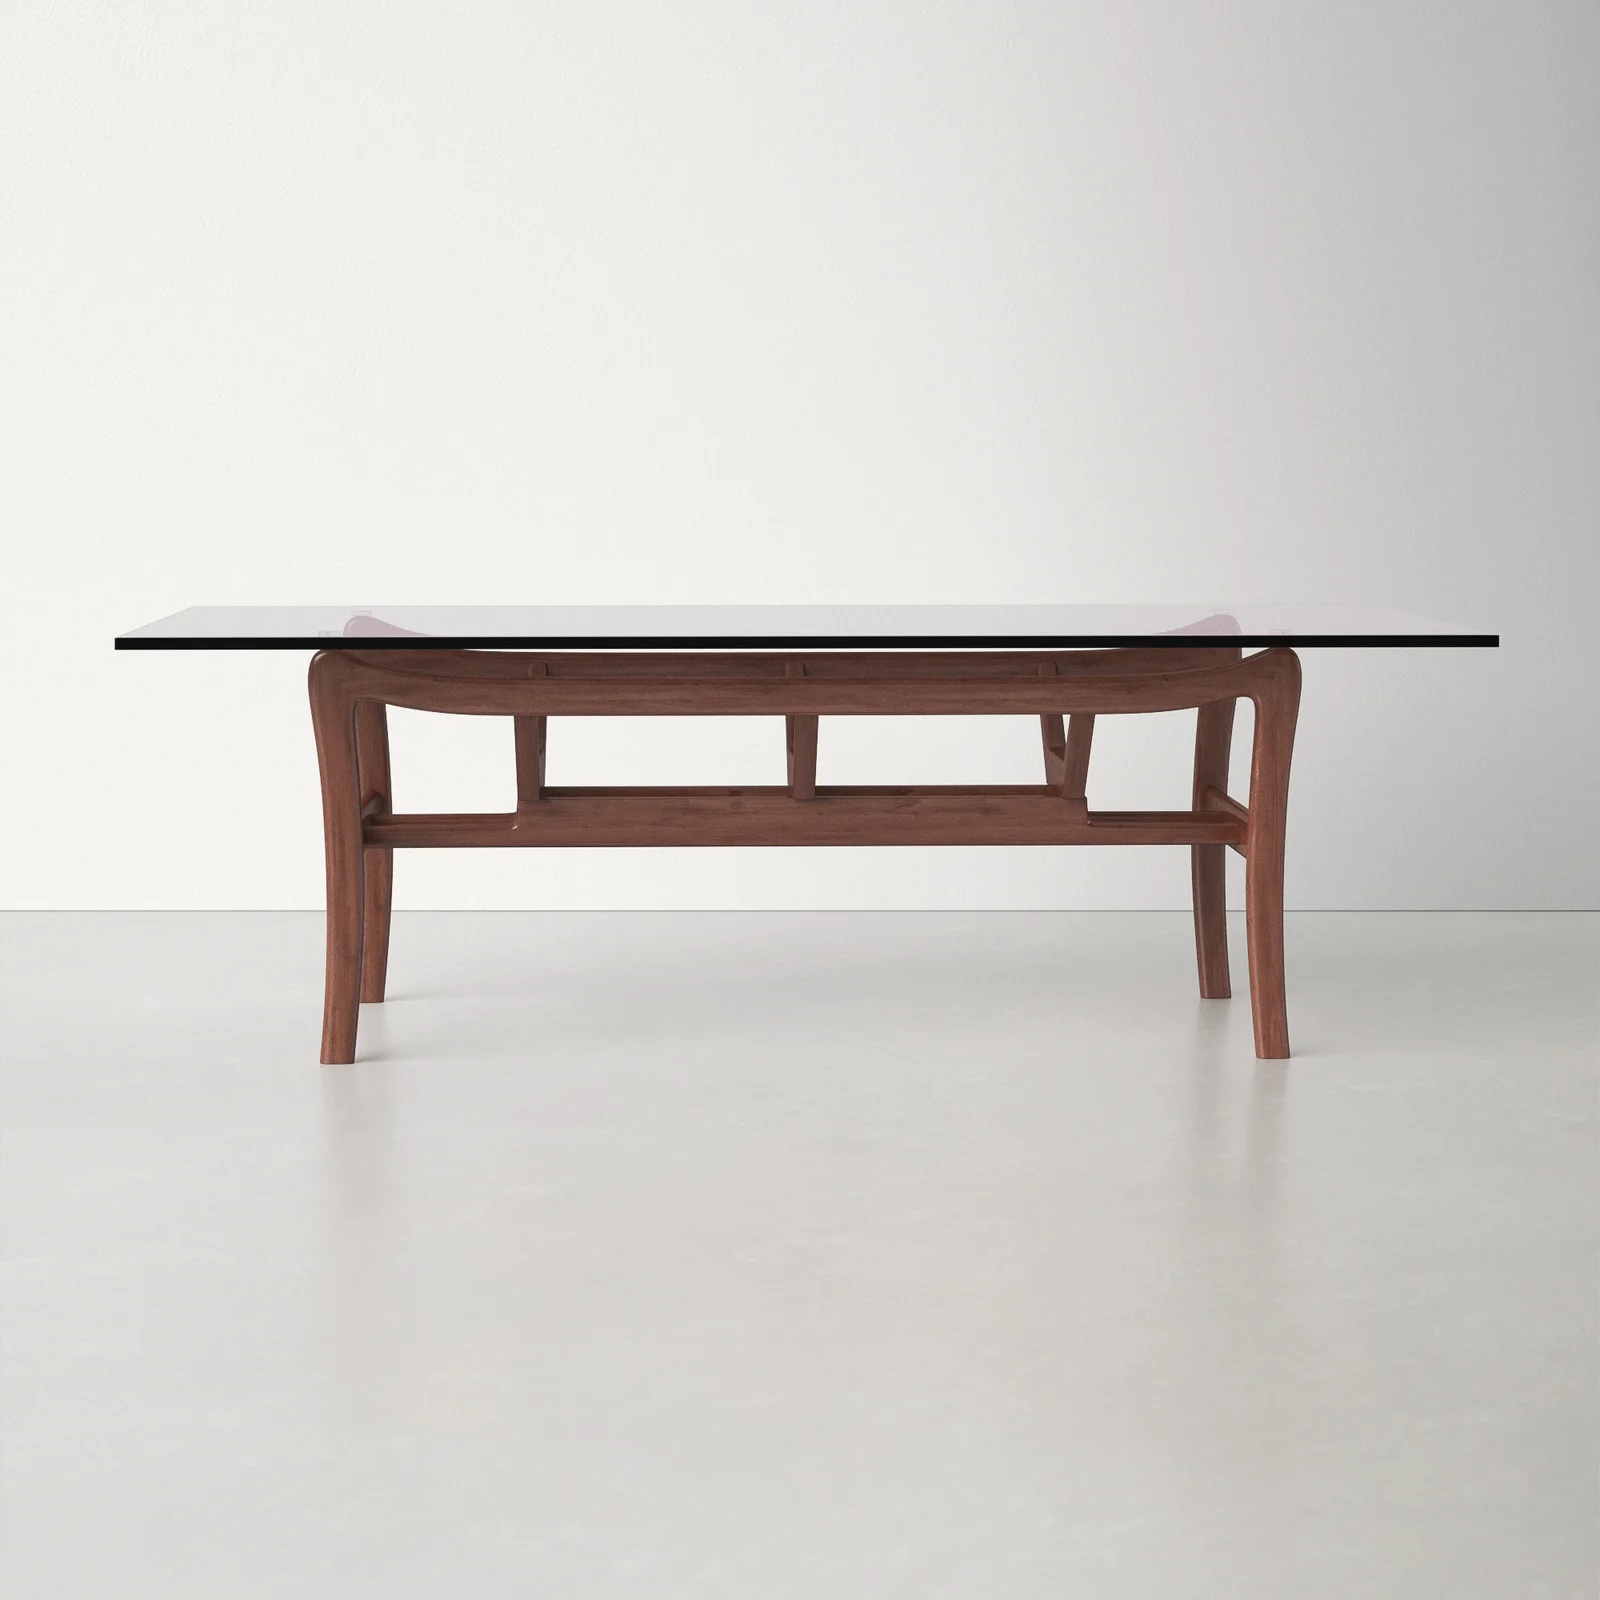obstacle: (117, 605, 1496, 1064)
